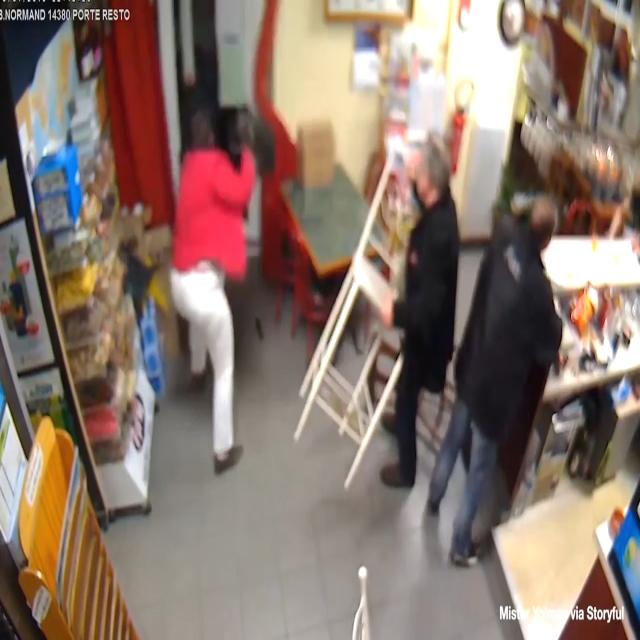fight: (129, 70, 299, 485)
